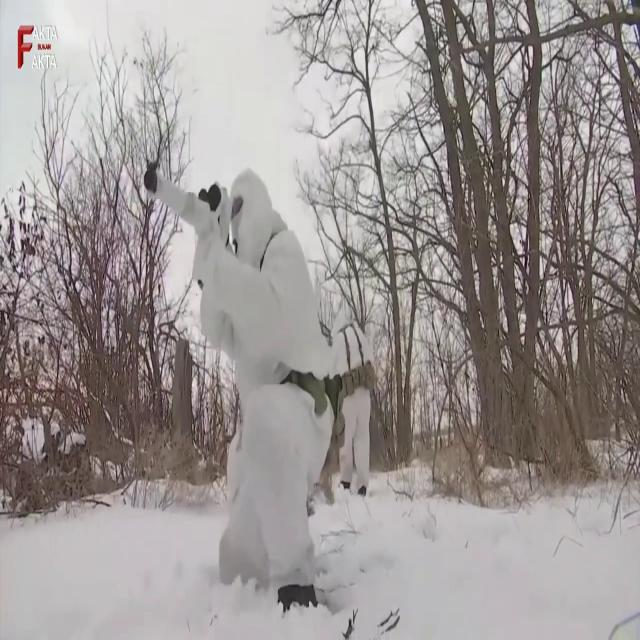Camouflage: (143, 158, 340, 605), (325, 301, 376, 497)
